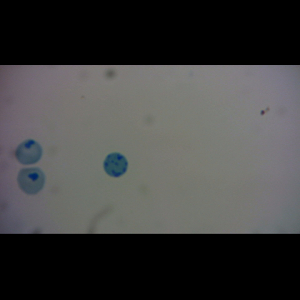aggregate reticulocyte: (103, 152, 129, 177)
erythrocyte: (16, 167, 46, 195), (15, 139, 42, 165)
